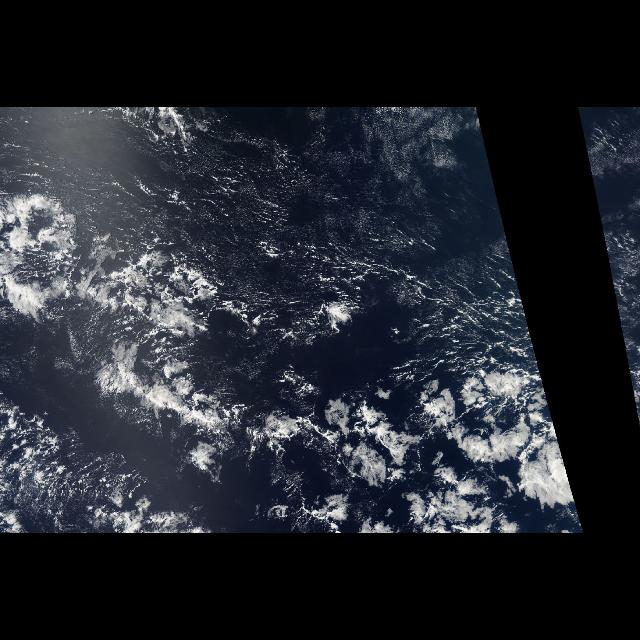Fish: (18, 202, 324, 466)
Flower: (343, 289, 584, 533), (613, 288, 619, 324)
Sugar: (268, 111, 484, 263)
